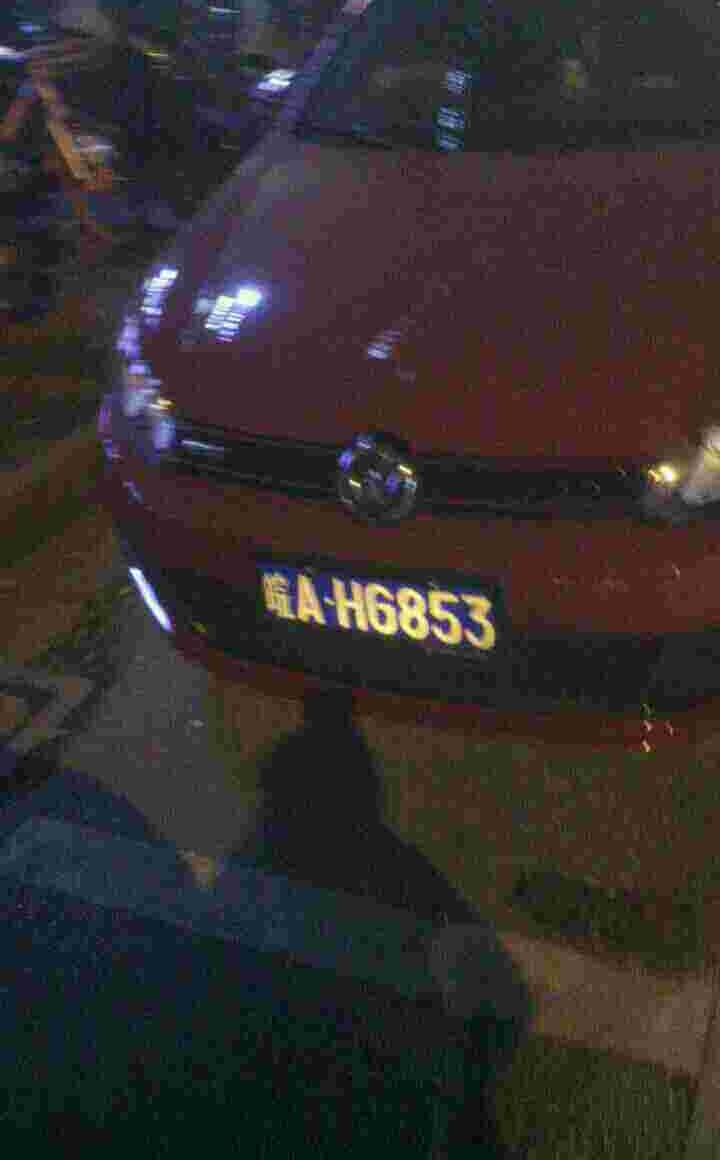license_plate: (256, 569, 495, 646)
